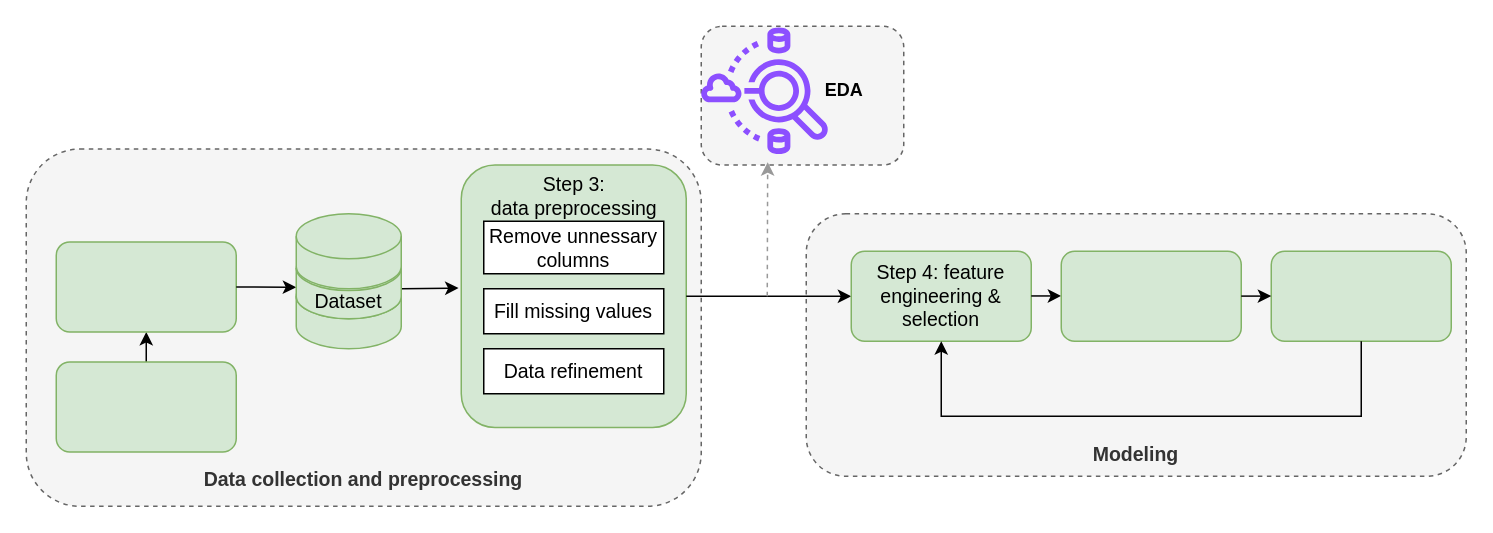
Some shapes in this 1493 by 533 pixel diagram are drawn without their labels. The shapes that lost their labels are listed below. From the top down, each one's centre as x and y in pixels, then its label:
(x=145, y=286): Step 2: crawling data
(x=1150, y=295): Step 5: model selection & training
(x=1360, y=295): Step 6: evaluate & hyperparam tuning
(x=145, y=406): Step 1: define the problem
